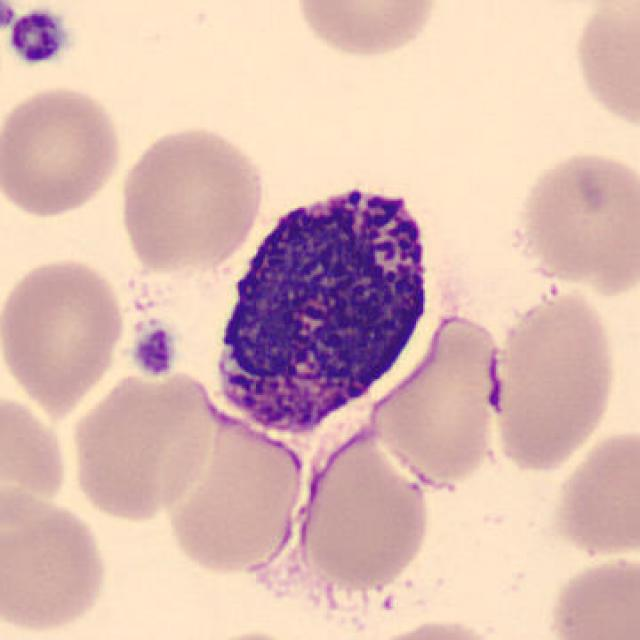Basophil: (201, 168, 450, 446)
Platelets: (3, 5, 73, 69), (128, 323, 178, 379), (0, 2, 16, 33)
RBC: (478, 282, 622, 474), (364, 308, 508, 492), (66, 365, 220, 525), (160, 414, 308, 576), (114, 120, 268, 275), (295, 425, 436, 592), (0, 252, 128, 414), (507, 145, 638, 296), (0, 483, 114, 638), (0, 81, 126, 220), (549, 425, 640, 561), (0, 386, 73, 529), (288, 0, 444, 62), (569, 0, 638, 138), (544, 550, 638, 640), (359, 615, 509, 640), (188, 627, 321, 640)
